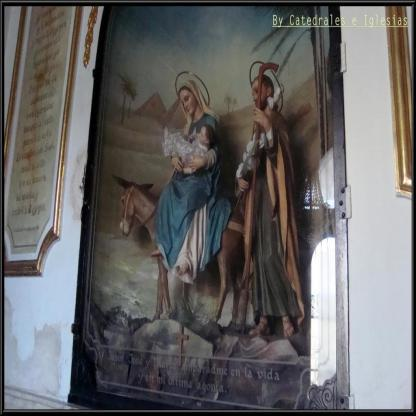Picture-frame: (69, 1, 359, 416)
